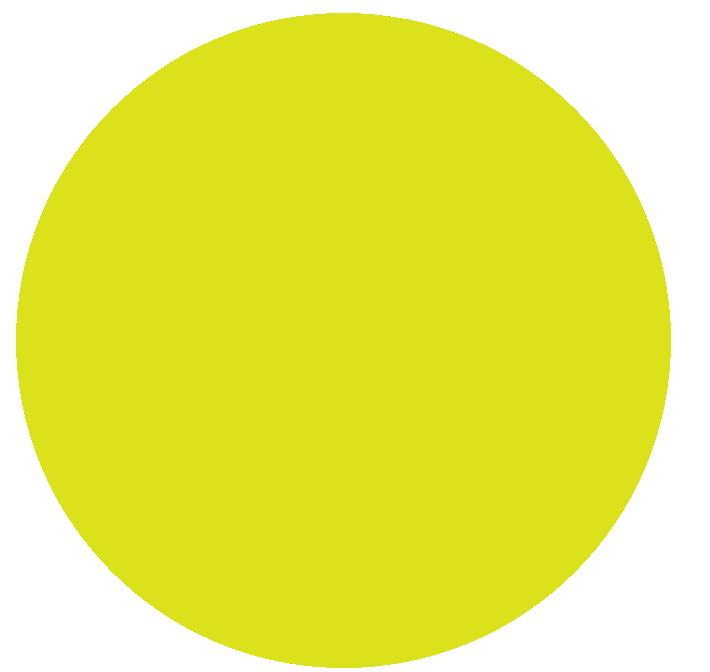yellow_circle: (0, 9, 672, 672)
